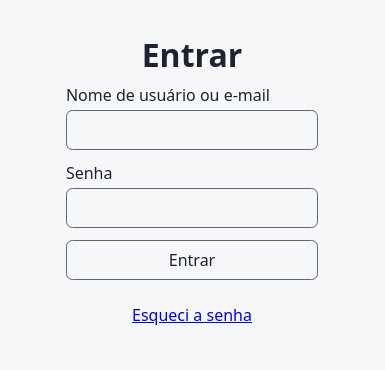
it: entrar e sair › mostra a mensagem do erro MUITAS_TENTATIVAS
In the field labelled "Nome de usuário ou e-mail": (192, 130) 66,110 -> 318,150, type "bia"
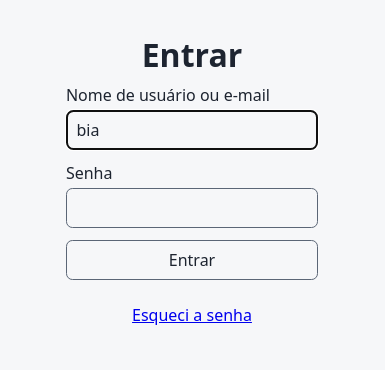
In the password field labelled "Senha": (192, 208) 66,188 -> 318,228, type "errada"
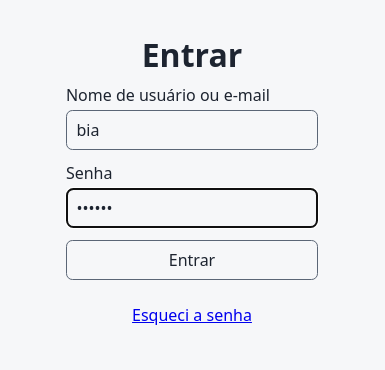
Click the button "Entrar": (192, 260) 66,240 -> 318,280
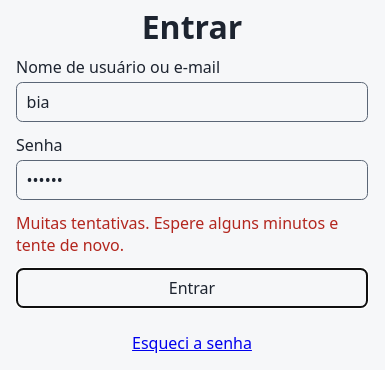
Expected: the message reads "Muitas tentativas. Espere alguns minutos e tente de novo.", 16,212 -> 338,256
